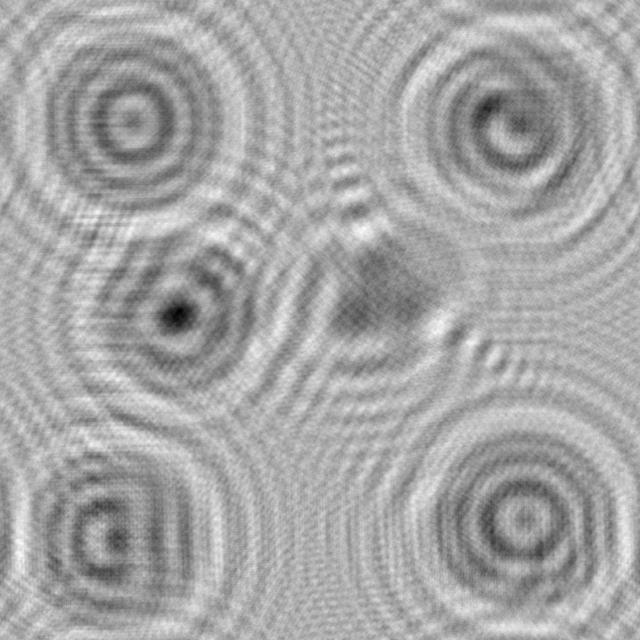D: (0, 380, 296, 640)
G: (370, 0, 640, 259)
O: (0, 0, 271, 251)
P: (24, 160, 334, 455)
Q: (371, 374, 640, 640)
Y: (223, 146, 540, 456)
